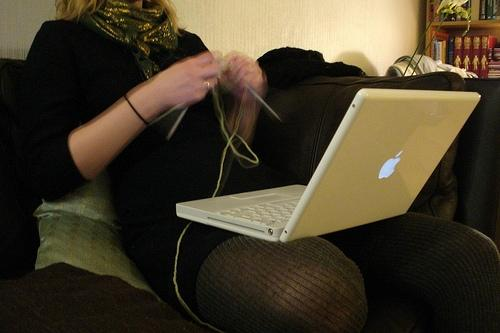apple: (378, 158, 400, 180)
